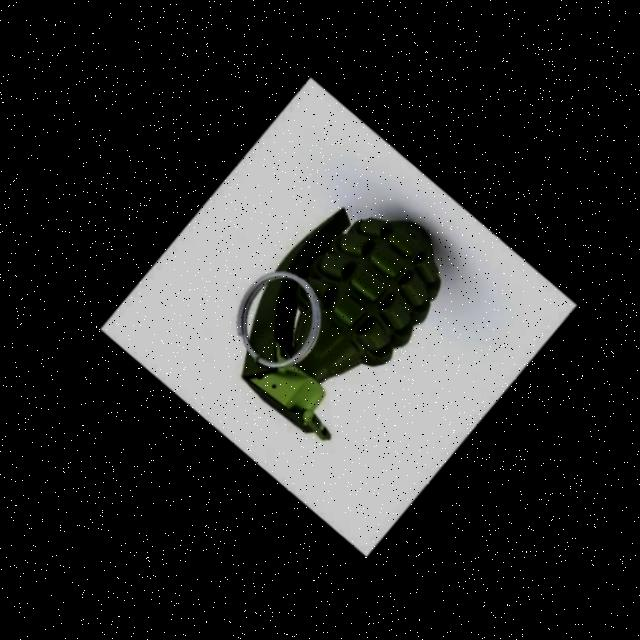grenade: (205, 178, 458, 450)
